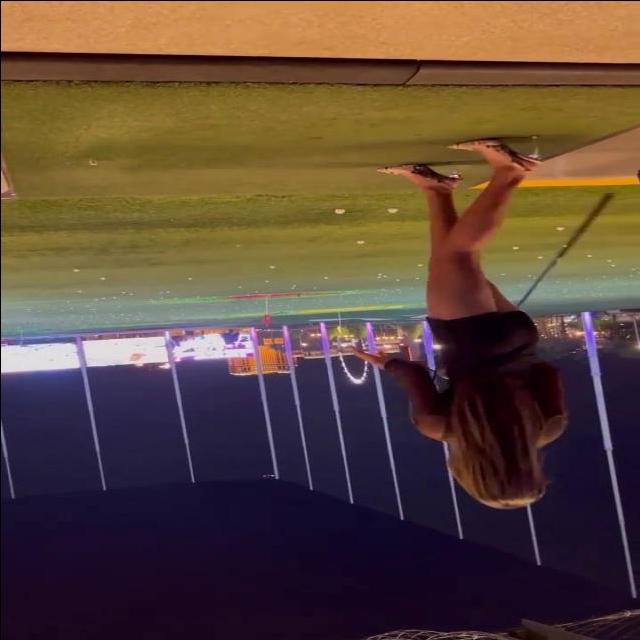golf club-handle: (515, 194, 612, 305)
